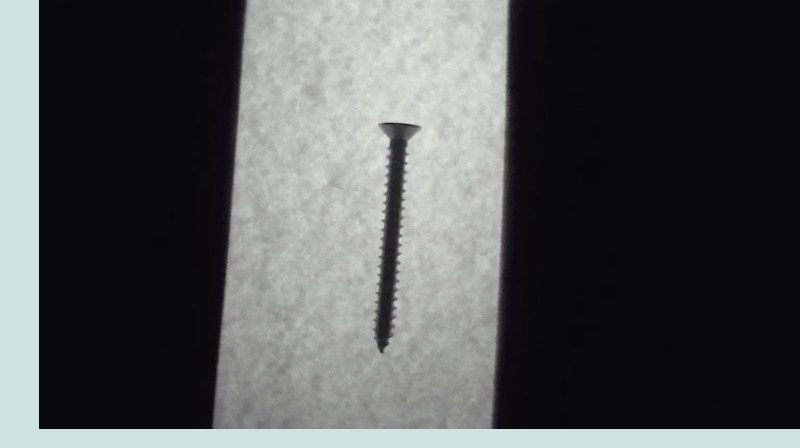S002: (370, 118, 426, 358)
